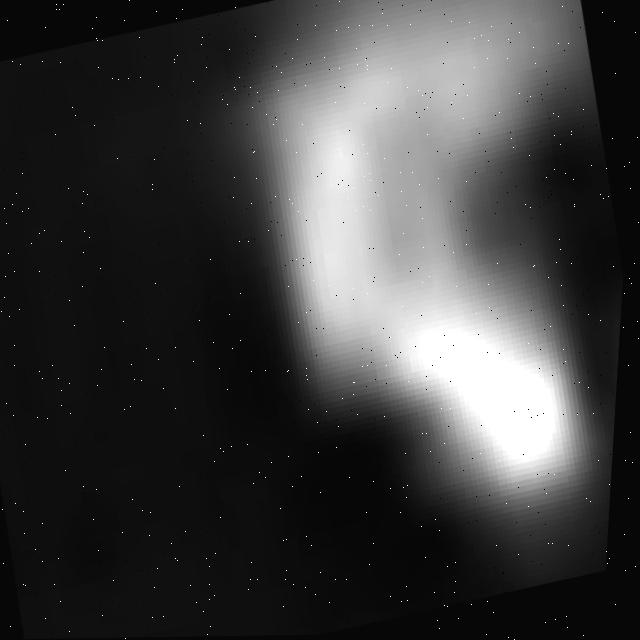person: (202, 1, 640, 586)
